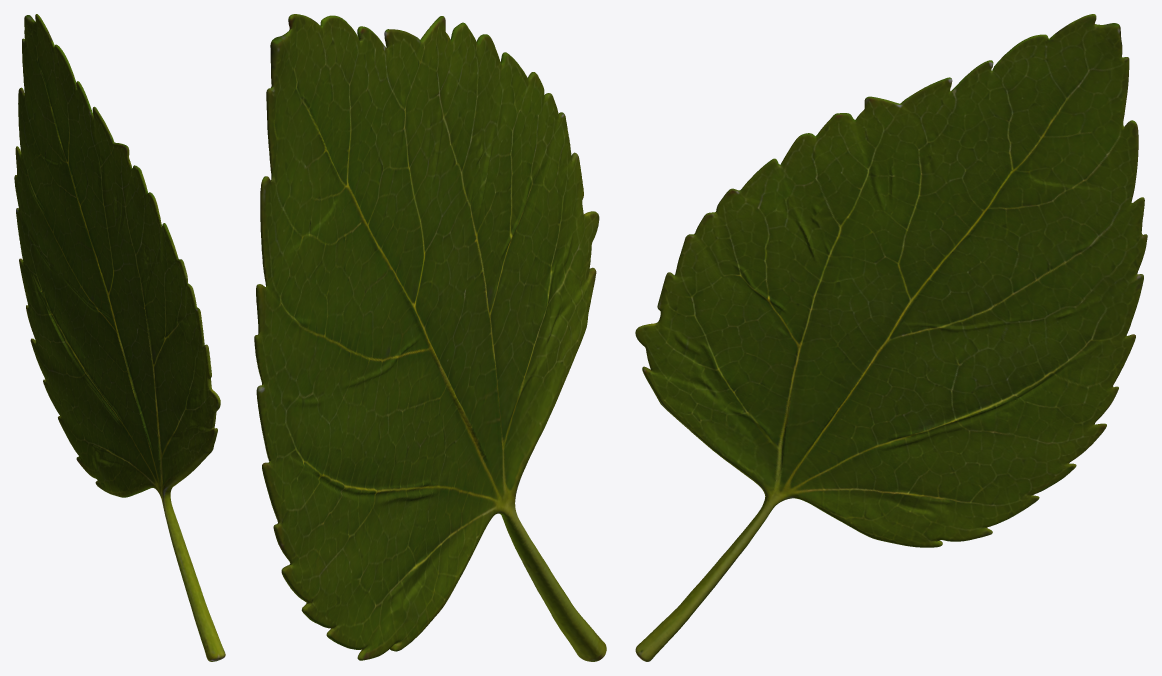
Rendered from tripo_convert_5278b7fe-3250-4e42-a893-a3b69c0a4768.obj.
3 views of the same model, side by side, from view 1: azimuth 30°, elevation 25°; view 2: azimuth 150°, elevation 25°; view 3: azimuth 270°, elevation 25° (orthographic). The views are drawn at different scales.
Visible parts, largest first — view 1: tripo_node_5278b7fe-3250-4e42-a893-a3b69c0a4768; view 2: tripo_node_5278b7fe-3250-4e42-a893-a3b69c0a4768; view 3: tripo_node_5278b7fe-3250-4e42-a893-a3b69c0a4768.
Part boxes in pixels (x1=…): tripo_node_5278b7fe-3250-4e42-a893-a3b69c0a4768: x1=14, y1=14, x2=225, y2=661; tripo_node_5278b7fe-3250-4e42-a893-a3b69c0a4768: x1=254, y1=14, x2=606, y2=661; tripo_node_5278b7fe-3250-4e42-a893-a3b69c0a4768: x1=635, y1=14, x2=1147, y2=661.
Size of the model in its own units: 0.0343 by 1 by 0.7184.
Materials: 1 (1 with a texture image).
